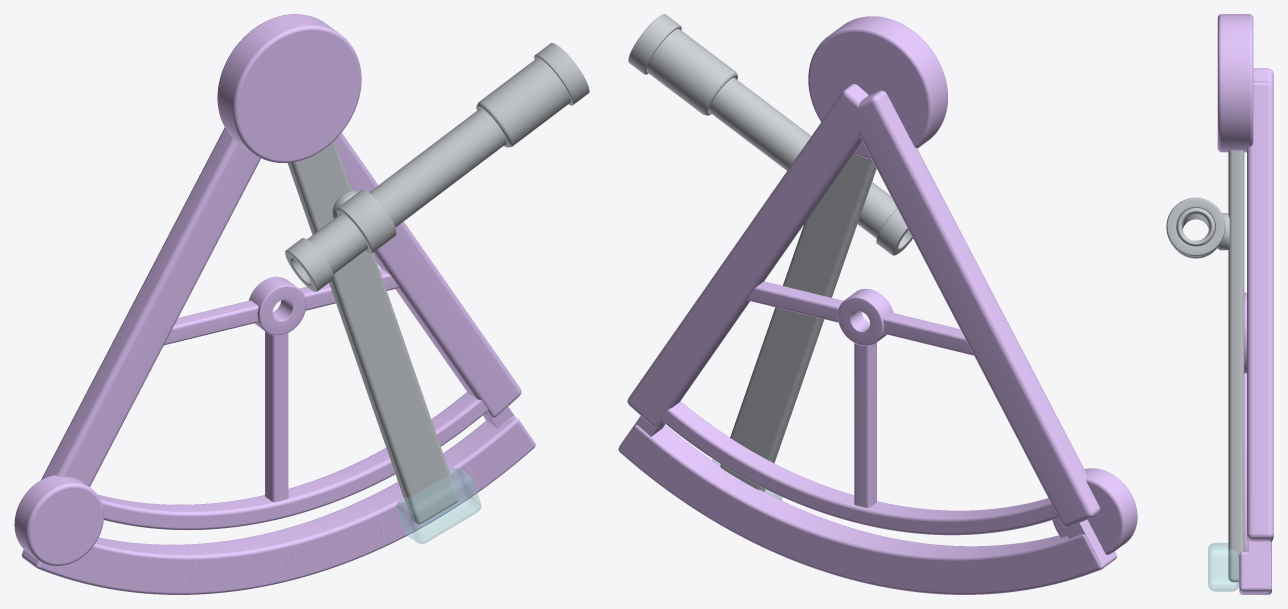
The model's file is api-gateway-route.glb.
The picture shows the model from 3 angles, left to right: view 1: azimuth 30°, elevation 25°; view 2: azimuth 150°, elevation 25°; view 3: azimuth 270°, elevation 25°; orthographic projection. The views are drawn at different scales.
Visible parts, largest first — view 1: Graduated outer arc, Port frame leg, Nickel index arm, Round apex pivot, Starboard frame leg, Split scale inner rail, Diagonal telescope barrel, Round port scale cap, Objective sleeve, Lower T brace, Cyan packet slider, Pierced brace eye (+5 smaller); view 2: Graduated outer arc, Port frame leg, Starboard frame leg, Nickel index arm, Round apex pivot, Split scale inner rail, Diagonal telescope barrel, Objective sleeve, Lower T brace, Round port scale cap, Pierced brace eye, Right T brace (+3 smaller); view 3: Starboard frame leg, Nickel index arm, Round apex pivot, Graduated outer arc, Objective rim, Cyan packet slider, Diagonal telescope barrel, Right scale end, Port frame leg, Index arm mounting boss, Round port scale cap.
Part boxes in pixels (x1=…): Graduated outer arc: x1=21, y1=416, x2=535, y2=594; Port frame leg: x1=41, y1=127, x2=260, y2=486; Nickel index arm: x1=287, y1=140, x2=458, y2=524; Round apex pivot: x1=217, y1=14, x2=361, y2=162; Starboard frame leg: x1=334, y1=132, x2=521, y2=417; Split scale inner rail: x1=97, y1=392, x2=488, y2=530; Diagonal telescope barrel: x1=307, y1=108, x2=506, y2=274; Round port scale cap: x1=14, y1=475, x2=103, y2=566; Objective sleeve: x1=476, y1=58, x2=570, y2=147; Lower T brace: x1=265, y1=331, x2=288, y2=501; Cyan packet slider: x1=397, y1=467, x2=480, y2=543; Pierced brace eye: x1=249, y1=276, x2=306, y2=335; Graduated outer arc: x1=618, y1=425, x2=1116, y2=594; Port frame leg: x1=850, y1=90, x2=1100, y2=527; Starboard frame leg: x1=627, y1=84, x2=868, y2=426; Nickel index arm: x1=720, y1=153, x2=876, y2=491; Round apex pivot: x1=808, y1=16, x2=947, y2=159; Split scale inner rail: x1=661, y1=401, x2=1058, y2=535; Diagonal telescope barrel: x1=708, y1=77, x2=897, y2=238; Objective sleeve: x1=646, y1=29, x2=737, y2=115; Lower T brace: x1=854, y1=342, x2=876, y2=507; Round port scale cap: x1=1052, y1=468, x2=1137, y2=554; Pierced brace eye: x1=837, y1=288, x2=893, y2=345; Right T brace: x1=747, y1=281, x2=843, y2=322; Starboard frame leg: x1=1247, y1=81, x2=1273, y2=542; Nickel index arm: x1=1228, y1=150, x2=1244, y2=582; Round apex pivot: x1=1217, y1=14, x2=1253, y2=152; Graduated outer arc: x1=1239, y1=373, x2=1271, y2=594; Objective rim: x1=1166, y1=197, x2=1225, y2=256; Cyan packet slider: x1=1208, y1=543, x2=1238, y2=591; Diagonal telescope barrel: x1=1176, y1=208, x2=1215, y2=246; Right scale end: x1=1248, y1=540, x2=1270, y2=586; Port frame leg: x1=1253, y1=68, x2=1273, y2=86; Index arm mounting boss: x1=1217, y1=213, x2=1229, y2=250; Round port scale cap: x1=1244, y1=292, x2=1246, y2=373.
Bounding box in the file's own units: 3.46 × 3.47 × 0.641.
